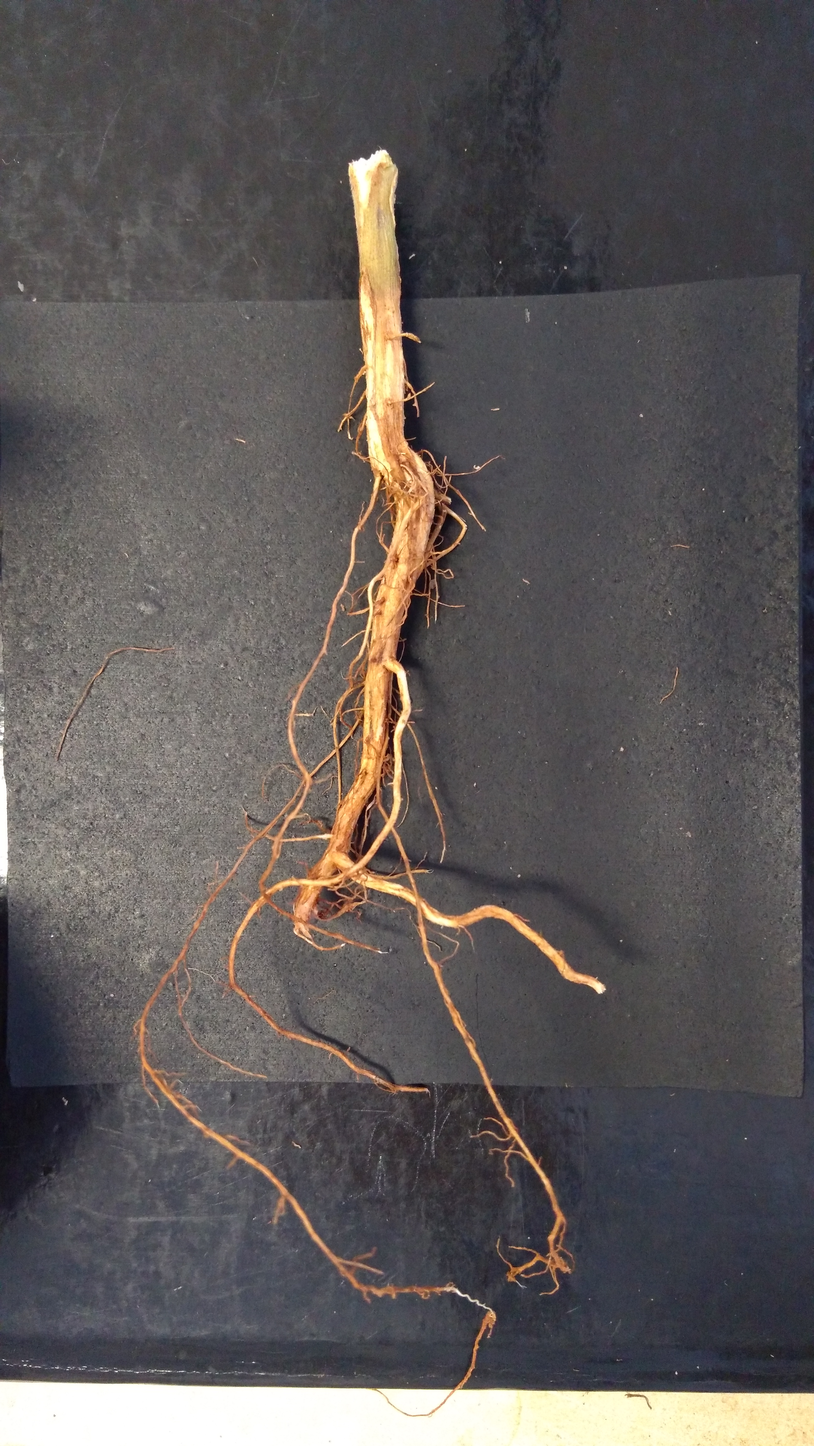nodule: (486, 1311, 497, 1328), (357, 706, 364, 726), (316, 910, 328, 921), (345, 902, 355, 912), (506, 1271, 516, 1281), (429, 578, 437, 590), (383, 753, 392, 762), (563, 1264, 569, 1274), (339, 800, 344, 806), (361, 370, 366, 376)
